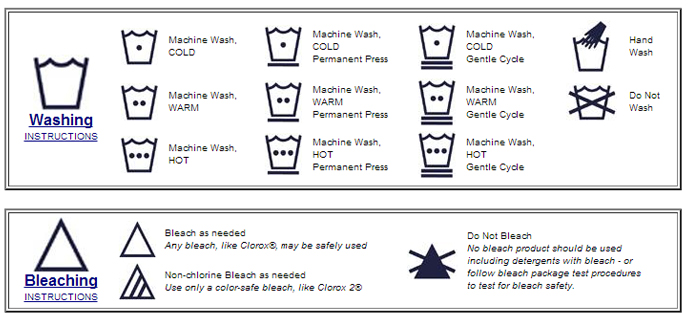do_not_bleach: (399, 244, 463, 284)
do_not_wash: (563, 80, 619, 124)
